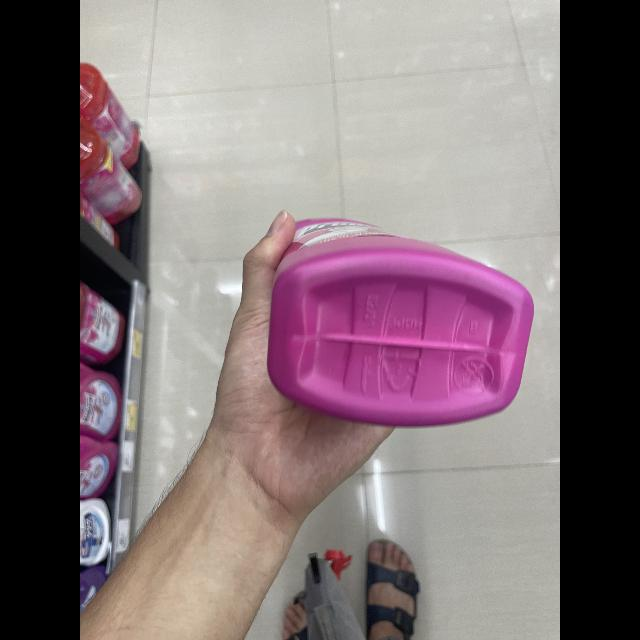chemical_plastic_bottle: (254, 213, 540, 435)
